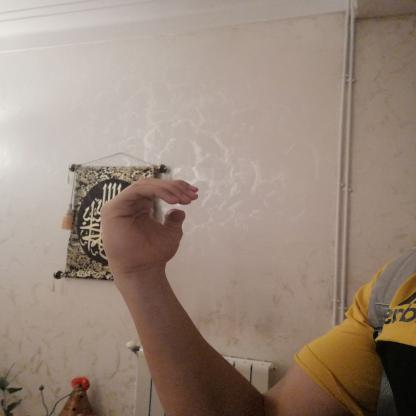JEEM: (86, 169, 214, 283)
